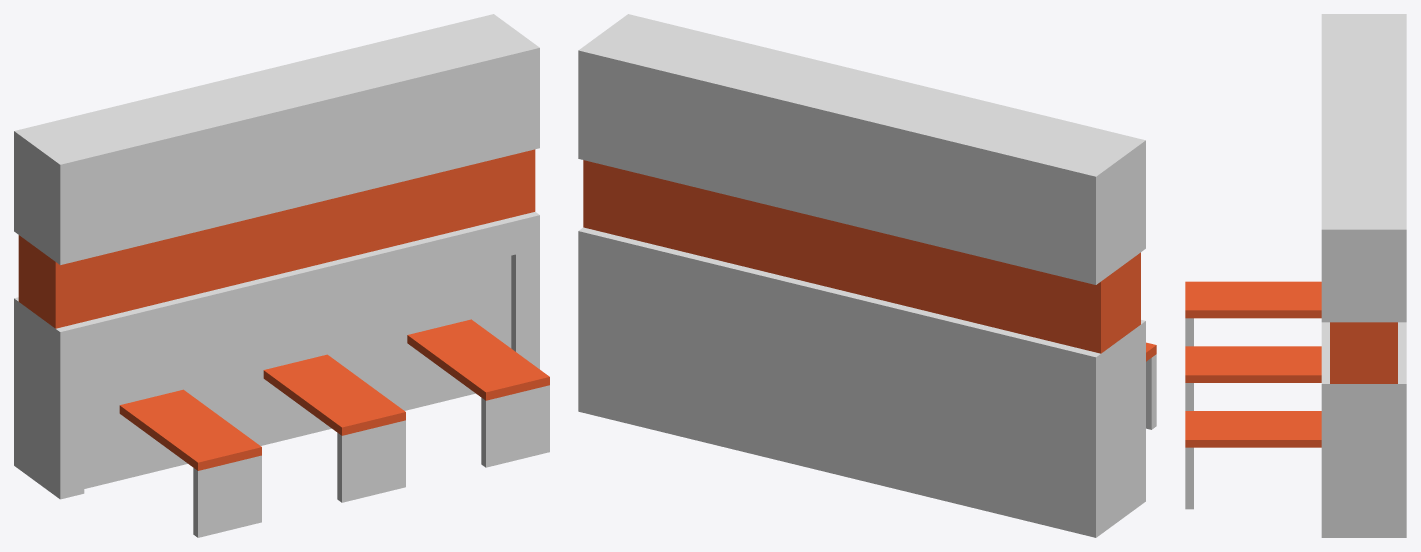
Rendered from Commisary Wall 5.obj.
3 views of the same model, side by side, from view 1: azimuth 30°, elevation 25°; view 2: azimuth 150°, elevation 25°; view 3: azimuth 270°, elevation 25° (orthographic). The views are drawn at different scales.
Size of the model in its own units: 60 by 40 by 26.
1 material, 1 textured.
